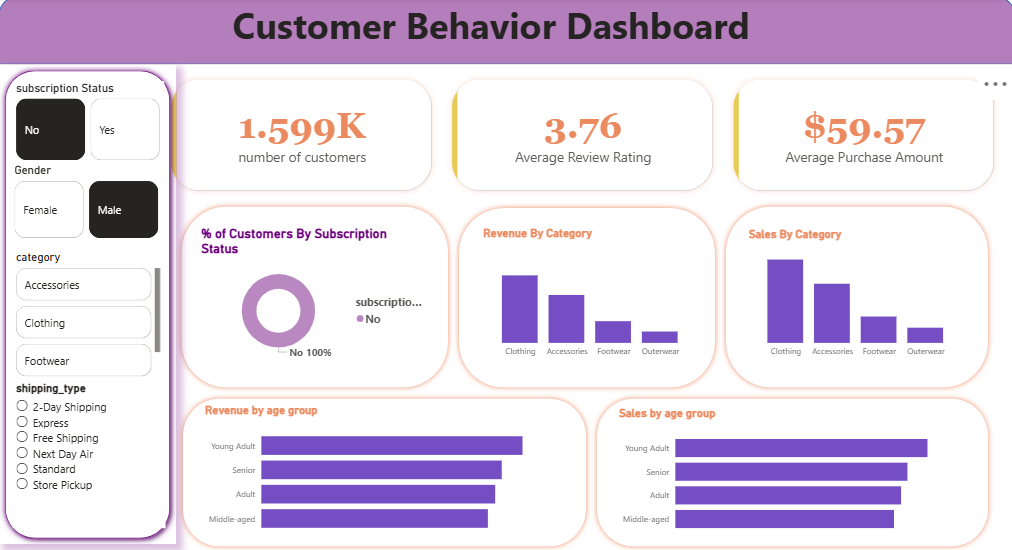

What the dashboard file says about the page in this screenshot:
{"tool":"powerbi","page":{"name":"Page 1","canvas":[1500,820],"ordinal":0},"visuals":[{"type":"cardVisual","fields":{"Data":["public customer.number of customers","public customer.Average Review Rating","public customer.Average Purchase Amount"]},"box":[225.9,93,1273.4,221.5],"z":0},{"type":"shape","box":[0,0,1499.3,99.7],"z":1000},{"type":"textbox","box":[287.9,0,892.5,183.8],"z":2000},{"type":"shape","box":[261.3,301.2,409.7,283.5],"z":3000},{"type":"donutChart","title":"% of Customers By Subscription Status","fields":{"Category":["public customer.subscription_status"],"Y":["CountNonNull(public customer.customer_id)"]},"box":[287.9,332.2,361,214.8],"z":4000},{"type":"shape","box":[671,303.4,394.2,281.3],"z":5000},{"type":"shape","box":[1065.2,301.2,403.1,283.5],"z":6000},{"type":"clusteredColumnChart","title":"Revenue By Category","fields":{"Y":["Sum(public customer.purchase_amount)"],"Category":["public customer.category"]},"box":[704.2,332.2,338.8,214.8],"z":7000},{"type":"clusteredColumnChart","title":"Sales By Category","fields":{"Category":["public customer.category"],"Y":["CountNonNull(public customer.customer_id)"]},"box":[1096.2,334.4,338.8,212.6],"z":7001},{"type":"shape","box":[0,99.7,261.3,708.7],"z":7002},{"type":"advancedSlicerVisual","fields":{"Values":["public customer.subscription_status"]},"box":[19.9,124,223.7,121.8],"z":7003},{"type":"advancedSlicerVisual","fields":{"Values":["public customer.gender"]},"box":[17.7,245.8,223.7,115.2],"z":7004},{"type":"advancedSlicerVisual","fields":{"Values":["public customer.category"]},"box":[19.9,374.3,223.7,192.7],"z":7005},{"type":"listSlicer","fields":{"Values":["public customer.shipping_type"]},"box":[19.9,566.9,225.9,217],"z":7006},{"type":"shape","box":[263.5,584.7,611.2,234.7],"z":7007},{"type":"shape","box":[874.8,584.7,593.5,234.7],"z":7008},{"type":"clusteredBarChart","title":"Revenue by age group","fields":{"Y":["Sum(public customer.purchase_amount)"],"Category":["public customer.age_group"]},"box":[299,600.2,540.4,203.7],"z":7010},{"type":"clusteredBarChart","title":"Sales by age group","fields":{"Y":["Sum(public customer.purchase_amount)"],"Category":["public customer.age_group"]},"box":[910.2,604.6,524.9,199.3],"z":7011}]}

Visuals, with their boxes in screenshot pixels (x1, y1, x2, y2), scaled from the page's 1500x820 canvas onto the 1012x550 screenshot:
cardVisual - public customer.number of customers x public customer.Average Review Rating: detection(152, 62, 1011, 211)
shape: detection(0, 0, 1011, 67)
textbox: detection(194, 0, 796, 123)
shape: detection(176, 202, 453, 392)
"% of Customers By Subscription Status" donutChart: detection(194, 223, 438, 367)
shape: detection(453, 204, 719, 392)
shape: detection(719, 202, 991, 392)
"Revenue By Category" clusteredColumnChart: detection(475, 223, 704, 367)
"Sales By Category" clusteredColumnChart: detection(740, 224, 968, 367)
shape: detection(0, 67, 176, 542)
advancedSlicerVisual - public customer.subscription_status: detection(13, 83, 164, 165)
advancedSlicerVisual - public customer.gender: detection(12, 165, 163, 242)
advancedSlicerVisual - public customer.category: detection(13, 251, 164, 380)
listSlicer - public customer.shipping_type: detection(13, 380, 166, 526)
shape: detection(178, 392, 590, 549)
shape: detection(590, 392, 991, 549)
"Revenue by age group" clusteredBarChart: detection(202, 403, 566, 539)
"Sales by age group" clusteredBarChart: detection(614, 406, 968, 539)
